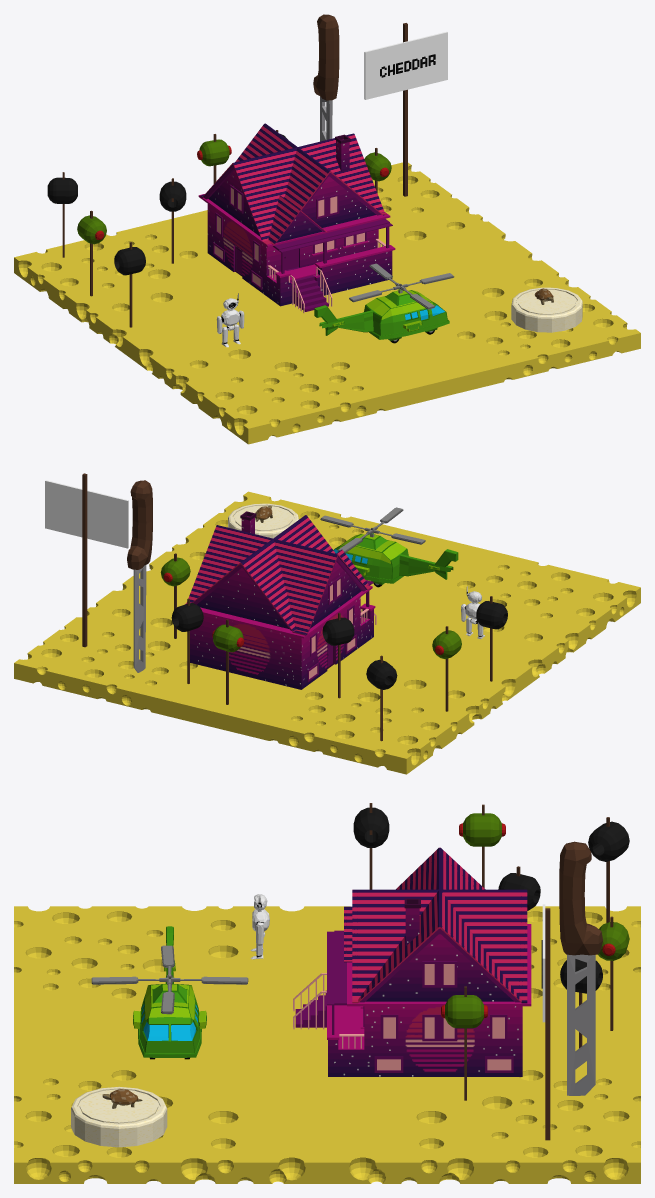
3 renders of one model, top to bottom at view 1: azimuth 30°, elevation 25°; view 2: azimuth 150°, elevation 25°; view 3: azimuth 270°, elevation 25°, orthographic. The views are drawn at different scales.
Parts seen in each view (by area): view 1: Cube.022, Cube.156, VEHICLES_HELICOPTER, Cube.023, Cylinder.016, Cube.024, Sphere.017, Sphere.016, OBJRANDOM_PLATZEEBOT, Sphere.020, Sphere.018, Sphere.022 (+1 smaller); view 2: Cube.022, Cube.156, Cube.023, VEHICLES_HELICOPTER, Cube.024, Cylinder.016, Sphere.017, Sphere.020, Sphere.021, Sphere.016, Sphere.018, Sphere.022 (+2 smaller); view 3: Cube.022, Cube.156, Cube.024, VEHICLES_HELICOPTER, Cylinder.016, Cube.023, Sphere.019, Sphere.016, Sphere.018, Sphere.017, Sphere.022, Sphere.020 (+2 smaller).
Part boxes in pixels (x1,y1,x2,y2): Cube.022: (14,162,640,444); Cube.156: (198,123,395,313); VEHICLES_HELICOPTER: (314,263,454,343); Cube.023: (364,23,447,196); Cylinder.016: (511,287,582,332); Cube.024: (313,14,339,141); Sphere.017: (114,242,145,327); Sphere.016: (47,172,77,257); OBJRANDOM_PLATZEEBOT: (216,293,244,347); Sphere.020: (159,178,186,263); Sphere.018: (77,210,106,296); Sphere.022: (197,134,231,183); Cube.022: (14,491,640,774); Cube.156: (185,511,376,689); Cube.023: (45,473,128,647); VEHICLES_HELICOPTER: (320,507,458,587); Cube.024: (127,480,152,672); Cylinder.016: (228,503,298,538); Sphere.017: (476,596,507,681); Sphere.020: (322,612,354,698); Sphere.021: (171,598,203,683); Sphere.016: (366,655,397,741); Sphere.018: (432,626,461,711); Sphere.022: (212,619,244,704); Cube.022: (14,906,640,1183); Cube.156: (293,847,531,1076); Cube.024: (559,841,602,1095); VEHICLES_HELICOPTER: (91,926,248,1059); Cylinder.016: (71,1086,167,1147); Cube.023: (541,904,550,1140); Sphere.019: (441,986,487,1100); Sphere.016: (588,817,629,922); Sphere.018: (459,804,505,887); Sphere.017: (353,803,389,889); Sphere.022: (598,916,629,1030); Sphere.020: (498,866,540,910).
Bounding box in the file's own units: 3917 × 2007 × 4000.
41 materials, 5 textured.
